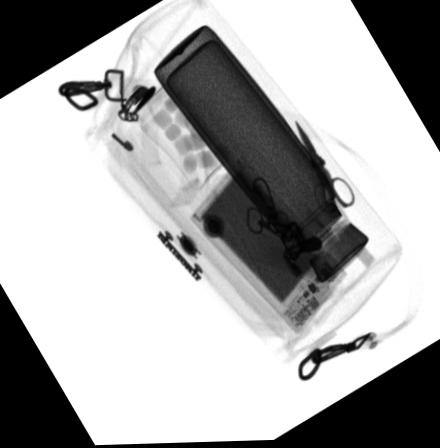Powerbank: (186, 158, 347, 335)
Scissors: (291, 118, 355, 219)
